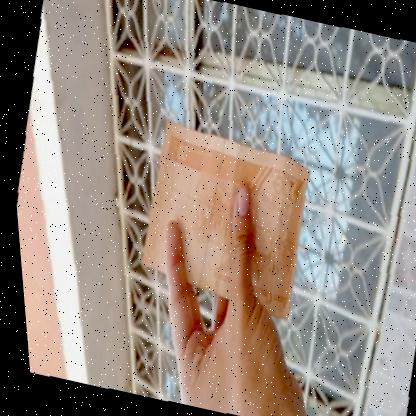twenty-back-vef: (122, 121, 321, 320)
